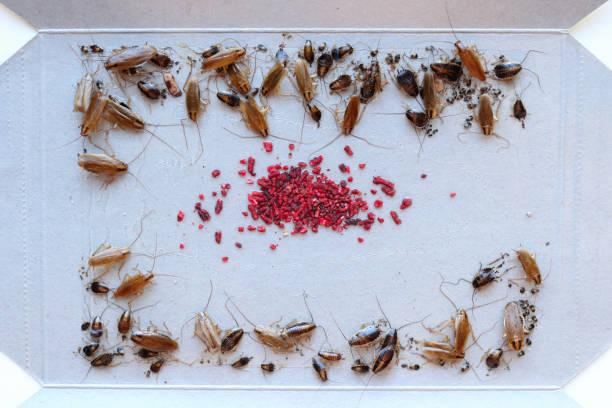cockroach: (70, 218, 188, 283), (99, 89, 197, 160), (49, 145, 160, 207), (489, 287, 548, 385), (474, 41, 562, 98), (424, 24, 501, 84), (266, 286, 333, 352), (405, 321, 474, 383), (421, 291, 484, 358), (113, 321, 205, 366), (328, 89, 379, 170), (174, 63, 212, 170), (227, 304, 302, 358), (443, 261, 506, 324), (322, 307, 393, 362), (498, 77, 550, 152), (234, 97, 300, 156), (180, 296, 233, 369), (464, 86, 511, 161), (255, 49, 303, 120), (506, 241, 558, 305), (363, 338, 412, 405), (366, 305, 424, 359), (172, 305, 227, 359), (208, 60, 268, 108), (294, 354, 353, 401), (89, 46, 160, 85), (382, 103, 450, 143), (475, 329, 523, 385), (215, 300, 260, 359), (51, 71, 106, 119), (180, 36, 274, 64), (68, 88, 104, 157), (349, 57, 392, 113), (105, 270, 181, 301), (276, 54, 320, 107), (73, 352, 135, 388), (221, 346, 263, 397), (104, 300, 152, 344), (243, 351, 306, 383), (134, 345, 175, 392), (77, 298, 116, 345), (382, 59, 424, 95), (421, 74, 449, 126), (307, 337, 344, 366), (328, 71, 361, 99), (311, 55, 329, 91)
